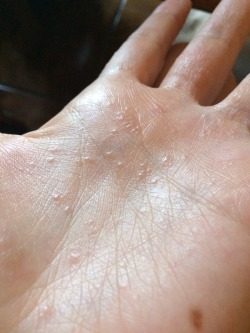Diseased: (39, 85, 239, 294)
